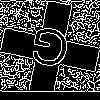G: (25, 25, 73, 78)
